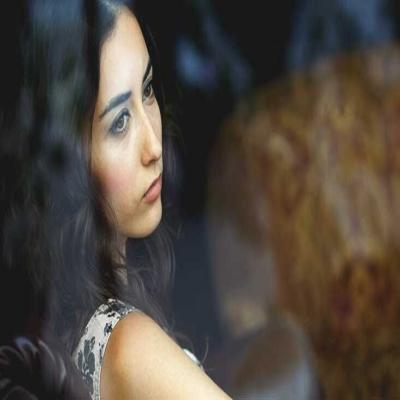netural: (89, 8, 164, 242)
